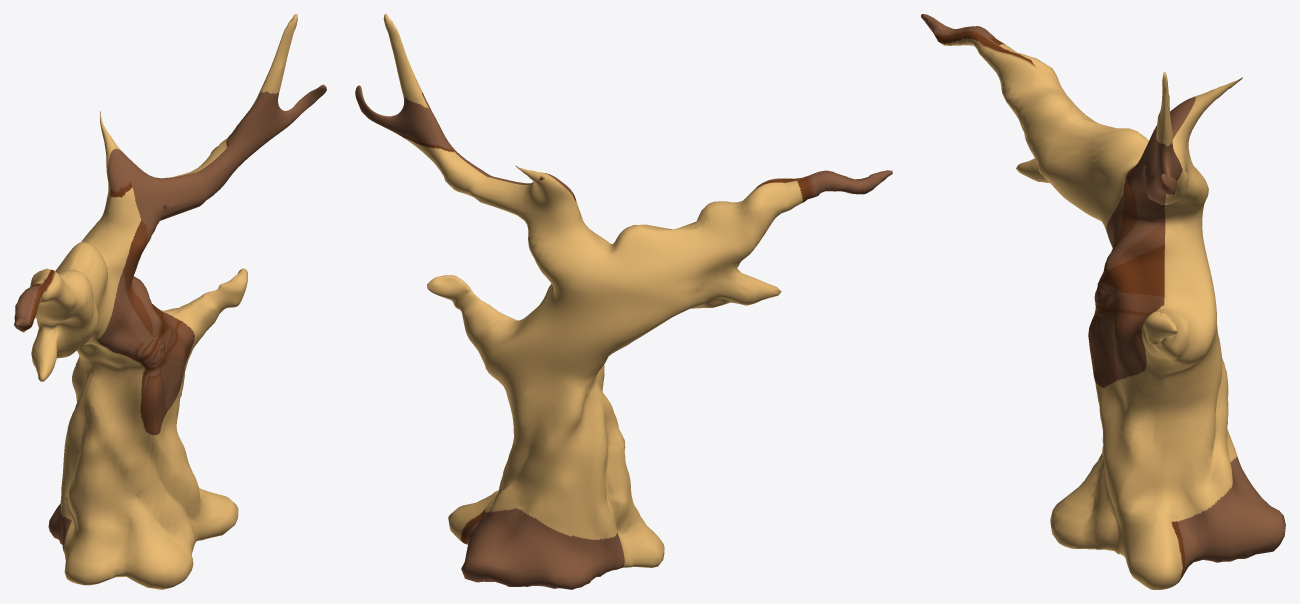
Rendered from pretty tree second modell.fbx.
3 renders of one model, left to right at view 1: azimuth 30°, elevation 25°; view 2: azimuth 150°, elevation 25°; view 3: azimuth 270°, elevation 25°, orthographic. The views are drawn at different scales.
Parts seen in each view (by area): view 1: Cylinder; view 2: Cylinder; view 3: Cylinder.
Boxes of the visible parts, <box> form: Cylinder: <box>14,14,326,589</box>; Cylinder: <box>355,14,892,589</box>; Cylinder: <box>921,14,1285,589</box>.
Size of the model in its own units: 732 by 837 by 490.
